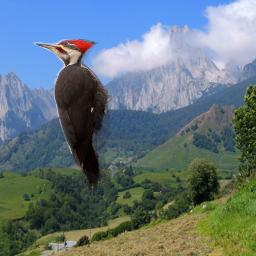Woodpecker: (32, 39, 112, 191)
